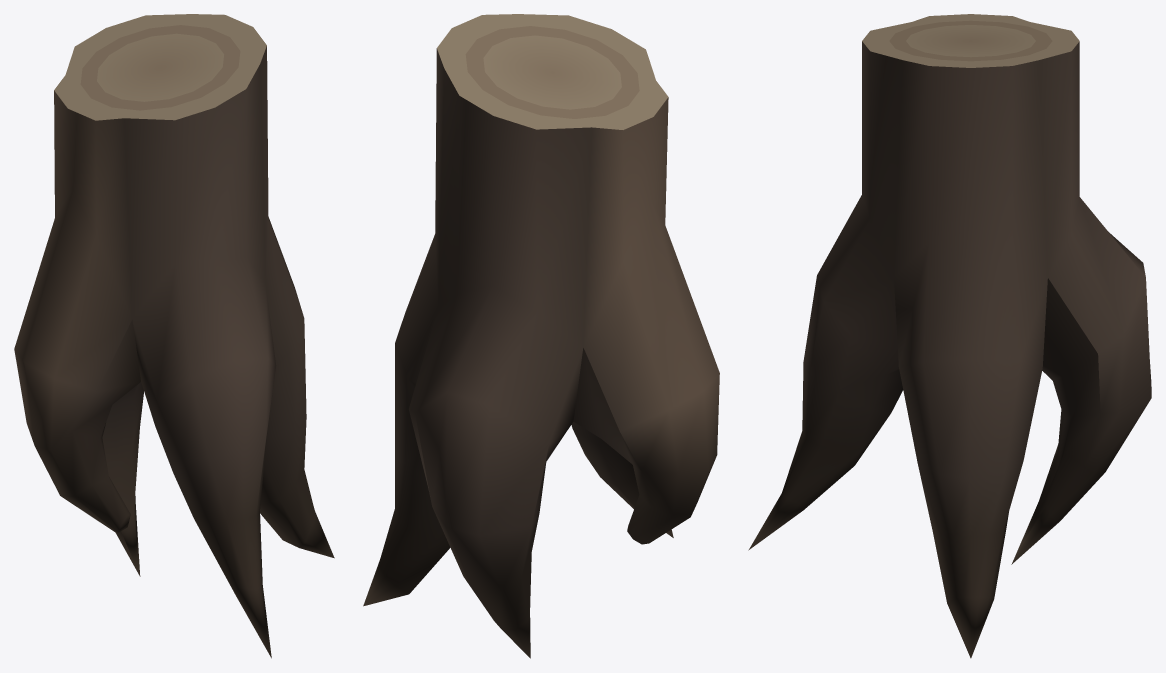
Rendered from trees-dead-trees-wood-tree-stump_v4.glb.
The picture shows the model from 3 angles, left to right: view 1: azimuth 30°, elevation 25°; view 2: azimuth 150°, elevation 25°; view 3: azimuth 270°, elevation 25°; orthographic projection. The views are drawn at different scales.
Parts seen in each view (by area): view 1: Tree Stump_v4; view 2: Tree Stump_v4; view 3: Tree Stump_v4.
Boxes of the visible parts, bbox=[...] form: Tree Stump_v4: bbox=[14, 14, 334, 658]; Tree Stump_v4: bbox=[363, 14, 719, 658]; Tree Stump_v4: bbox=[748, 14, 1151, 658].
Bounding box in the file's own units: 0.473 × 0.8 × 0.5305.
